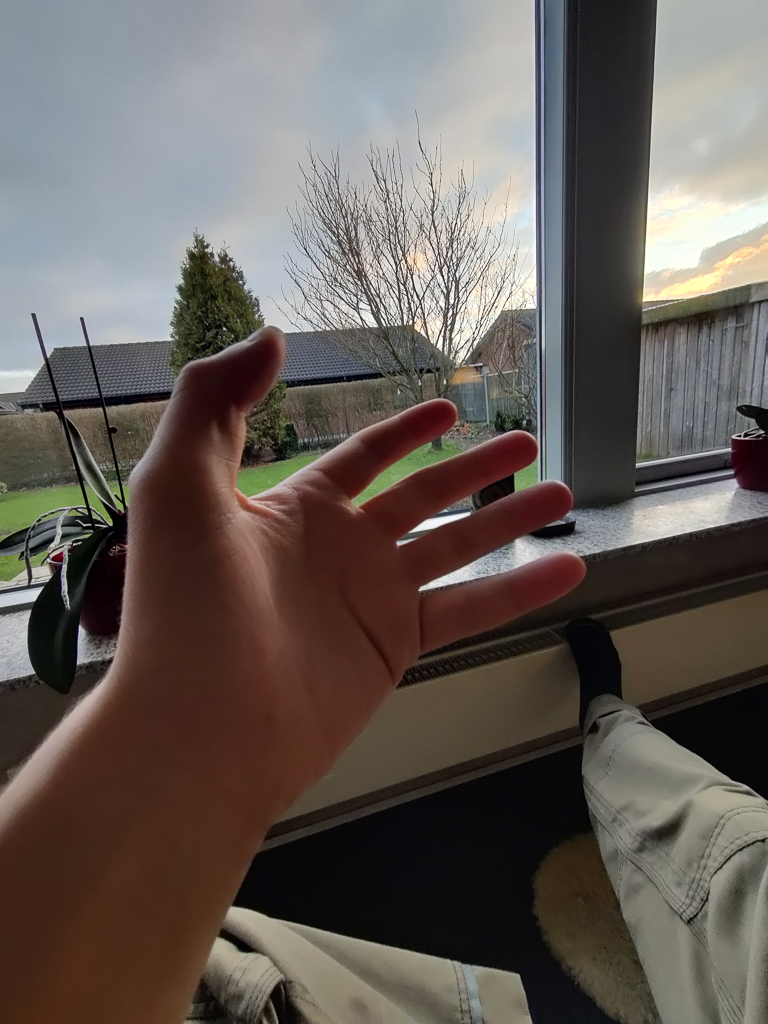Humanoid: (0, 312, 768, 1024)
